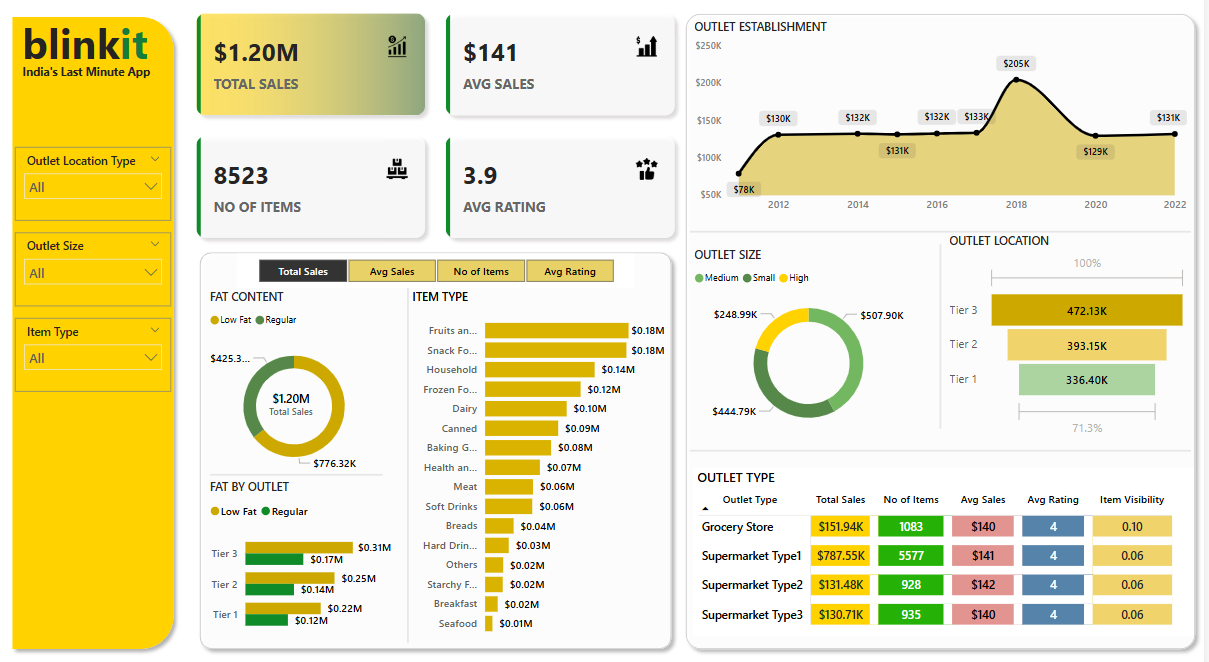

The dashboard page shown, as its layout file describes it:
{"tool":"powerbi","page":{"name":"Page 1","canvas":[1400,800],"ordinal":0},"visuals":[{"type":"shape","box":[12.2,24.3,204.9,750.2],"z":0},{"type":"textbox","box":[251.8,741.6,204.9,33],"z":1000},{"type":"textbox","box":[27.8,24.3,189.3,85.1],"z":2000},{"type":"textbox","box":[27.8,81.6,184.1,27.8],"z":3000},{"type":"cardVisual","fields":{"Data":["BlinkIT Grocery Data.Total Sales","BlinkIT Grocery Data.Avg Sales","BlinkIT Grocery Data.No of Items","BlinkIT Grocery Data.Avg Rating"]},"box":[217.1,12.2,588.7,295.2],"z":4000},{"type":"shape","box":[229.2,297,564.4,477.6],"z":5000},{"type":"donutChart","title":"FAT CONTENT","fields":{"Y":["BlinkIT Grocery Data.Total Sales"],"Category":["BlinkIT Grocery Data.Item Fat Content"]},"box":[244.9,347.3,204.9,229.2],"z":6000},{"type":"slicer","fields":{"Values":["Metrics.Metrics"]},"box":[281.3,307.4,460.2,39.9],"z":7000},{"type":"cardVisual","fields":{"Data":["BlinkIT Grocery Data.Total Sales"]},"box":[295.2,448.1,97.3,62.5],"z":8000},{"type":"clusteredBarChart","title":"FAT BY OUTLET","fields":{"Y":["BlinkIT Grocery Data.Total Sales"],"Category":["BlinkIT Grocery Data.Outlet Location Type"],"Series":["BlinkIT Grocery Data.Item Fat Content"]},"box":[244.9,567.9,220.6,191],"z":9000},{"type":"shape","box":[250.1,536.6,199.7,53.8],"z":10000},{"type":"shape","box":[461.9,347.3,34.7,411.6],"z":11000},{"type":"barChart","title":"ITEM TYPE","fields":{"Y":["BlinkIT Grocery Data.Total Sales"],"Category":["BlinkIT Grocery Data.Item Type"]},"box":[479.3,347.3,302.2,411.6],"z":12000},{"type":"shape","box":[791.9,20.8,607.8,753.7],"z":13000},{"type":"lineChart","title":"OUTLET ESTABLISHMENT","fields":{"Category":["BlinkIT Grocery Data.Outlet Establishment Year"],"Y":["BlinkIT Grocery Data.Total Sales"]},"box":[805.8,34.7,580,234.4],"z":14000},{"type":"shape","box":[805.8,257,580,50.4],"z":15000},{"type":"donutChart","title":"OUTLET SIZE","fields":{"Y":["BlinkIT Grocery Data.Total Sales"],"Category":["BlinkIT Grocery Data.Outlet Size"]},"box":[805.8,298.7,274.4,225.8],"z":16000},{"type":"shape","box":[1078.5,297,34.7,213.6],"z":17000},{"type":"funnel","title":"OUTLET LOCATION","fields":{"Y":["Sum(BlinkIT Grocery Data.Sales)"],"Category":["BlinkIT Grocery Data.Outlet Location Type"]},"box":[1101,283.1,284.8,241.4],"z":18000},{"type":"shape","box":[805.8,510.6,580,50.4],"z":19000},{"type":"pivotTable","title":"OUTLET TYPE","fields":{"Rows":["BlinkIT Grocery Data.Outlet Type"],"Values":["BlinkIT Grocery Data.Total Sales","BlinkIT Grocery Data.No of Items","BlinkIT Grocery Data.Avg Sales","BlinkIT Grocery Data.Avg Rating","Avg(BlinkIT Grocery Data.Item Visibility)"]},"box":[809.3,555.7,580,194.5],"z":20000},{"type":"slicer","fields":{"Values":["BlinkIT Grocery Data.Outlet Location Type"]},"box":[24.3,184.1,180.6,85.1],"z":21000},{"type":"slicer","fields":{"Values":["BlinkIT Grocery Data.Outlet Size"]},"box":[24.3,283.1,180.6,85.1],"z":22000},{"type":"slicer","fields":{"Values":["BlinkIT Grocery Data.Item Type"]},"box":[24.3,382.1,180.6,85.1],"z":23000}]}

Visuals, with their boxes on the page's 1400x800 design canvas (x1, y1, x2, y2). These are canvas units, not pixel positions in the 1209x662 screenshot, which may show the page scaled, cropped or inside an application window:
shape: rect(12, 24, 217, 774)
textbox: rect(252, 742, 457, 775)
textbox: rect(28, 24, 217, 109)
textbox: rect(28, 82, 212, 109)
cardVisual - BlinkIT Grocery Data.Total Sales x BlinkIT Grocery Data.Avg Sales: rect(217, 12, 806, 307)
shape: rect(229, 297, 794, 775)
"FAT CONTENT" donutChart: rect(245, 347, 450, 576)
slicer - Metrics.Metrics: rect(281, 307, 742, 347)
cardVisual - BlinkIT Grocery Data.Total Sales: rect(295, 448, 392, 511)
"FAT BY OUTLET" clusteredBarChart: rect(245, 568, 466, 759)
shape: rect(250, 537, 450, 590)
shape: rect(462, 347, 497, 759)
"ITEM TYPE" barChart: rect(479, 347, 782, 759)
shape: rect(792, 21, 1400, 774)
"OUTLET ESTABLISHMENT" lineChart: rect(806, 35, 1386, 269)
shape: rect(806, 257, 1386, 307)
"OUTLET SIZE" donutChart: rect(806, 299, 1080, 524)
shape: rect(1078, 297, 1113, 511)
"OUTLET LOCATION" funnel: rect(1101, 283, 1386, 524)
shape: rect(806, 511, 1386, 561)
"OUTLET TYPE" pivotTable: rect(809, 556, 1389, 750)
slicer - BlinkIT Grocery Data.Outlet Location Type: rect(24, 184, 205, 269)
slicer - BlinkIT Grocery Data.Outlet Size: rect(24, 283, 205, 368)
slicer - BlinkIT Grocery Data.Item Type: rect(24, 382, 205, 467)
